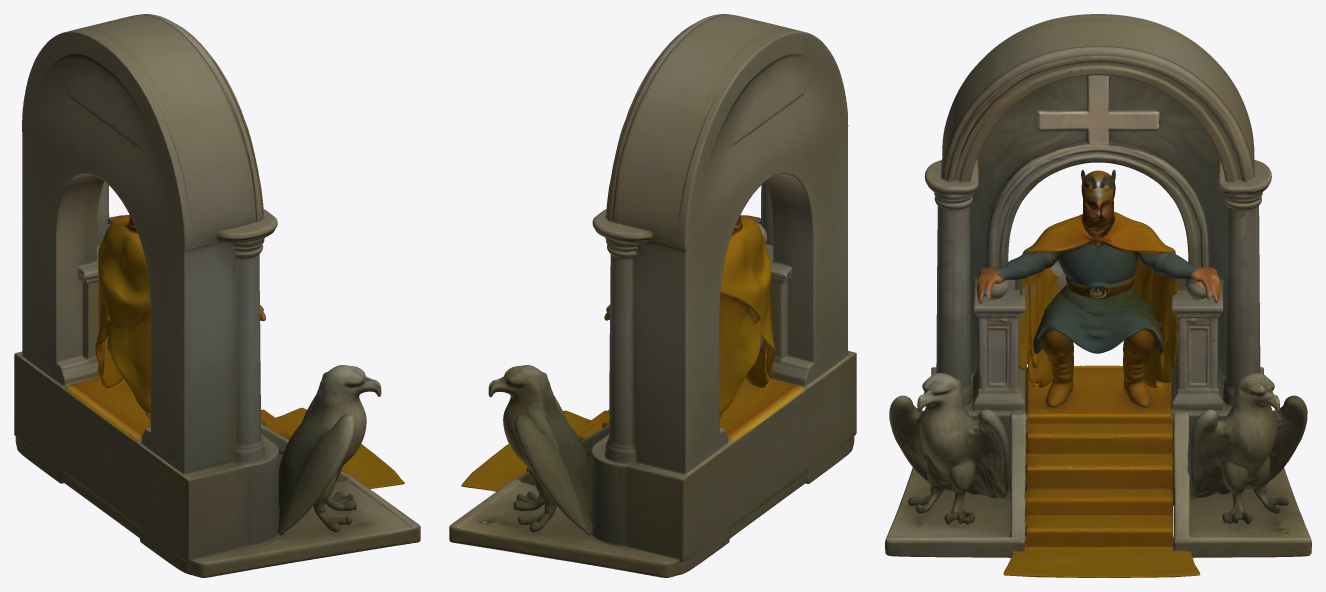
3 renders of one model, left to right at view 1: azimuth 30°, elevation 25°; view 2: azimuth 150°, elevation 25°; view 3: azimuth 270°, elevation 25°, orthographic. The views are drawn at different scales.
Parts seen in each view (by area): view 1: tripo_node_377c28c2-9dd6-4473-9cb6-6785dc806389; view 2: tripo_node_377c28c2-9dd6-4473-9cb6-6785dc806389; view 3: tripo_node_377c28c2-9dd6-4473-9cb6-6785dc806389.
Part boxes in pixels (x1=…): tripo_node_377c28c2-9dd6-4473-9cb6-6785dc806389: x1=14, y1=14, x2=420, y2=577; tripo_node_377c28c2-9dd6-4473-9cb6-6785dc806389: x1=449, y1=14, x2=856, y2=577; tripo_node_377c28c2-9dd6-4473-9cb6-6785dc806389: x1=885, y1=14, x2=1311, y2=577.
Bounding box in the file's own units: 0.586 × 1 × 0.8632.
Materials: 1 (1 with a texture image).
